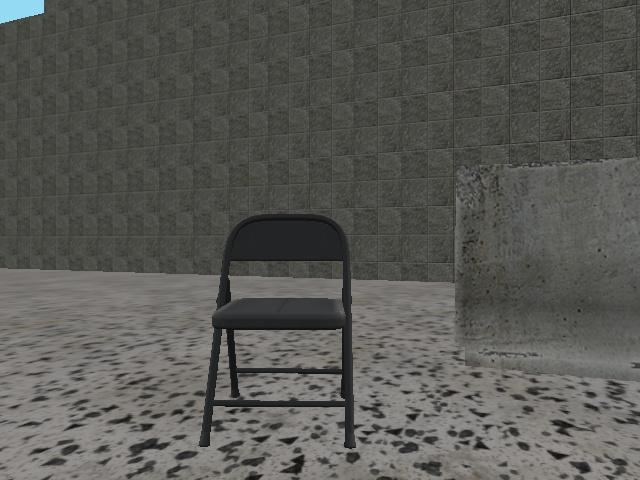chair: (199, 213, 356, 448)
